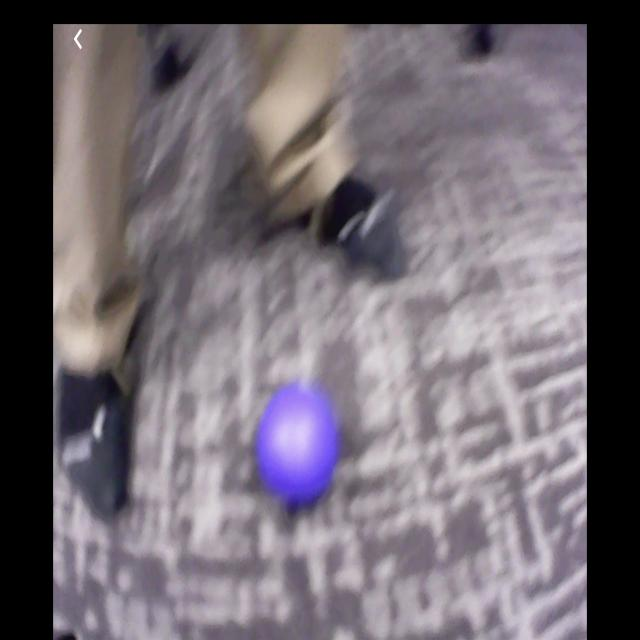ball: (260, 387, 337, 500)
